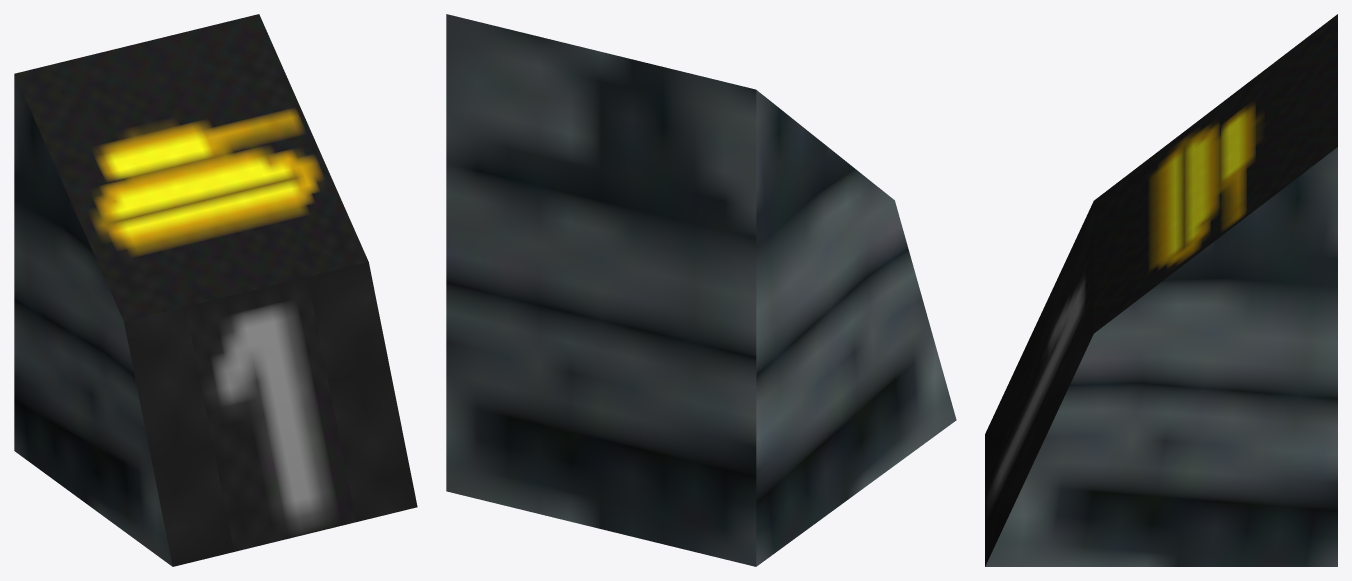
File: prop-040.glb
3 renders of one model, left to right at view 1: azimuth 30°, elevation 25°; view 2: azimuth 150°, elevation 25°; view 3: azimuth 270°, elevation 25°, orthographic. The views are drawn at different scales.
Visible parts, largest first — view 1: root; view 2: root; view 3: root.
Part boxes in pixels (box(x1,y1,x2,y2)): root: box(14, 14, 417, 566); root: box(446, 14, 956, 566); root: box(985, 14, 1337, 566).
Size of the model in its own units: 0.5996 by 0.8828 by 0.6719.
Materials: 1 (1 with a texture image).
